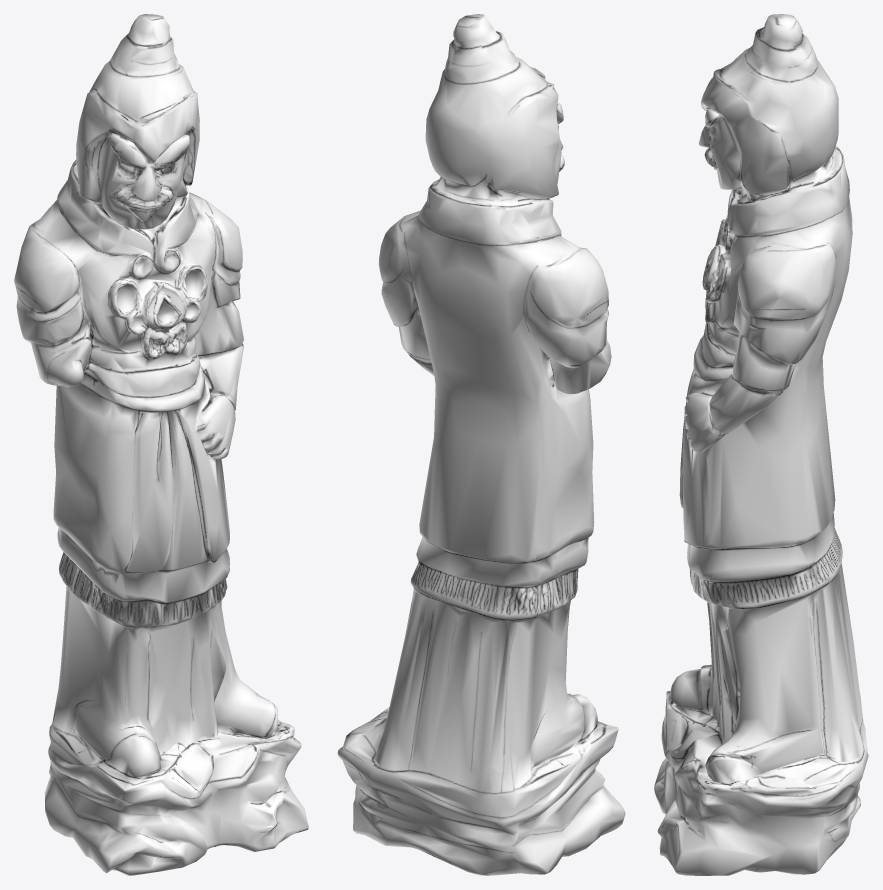
The picture shows the model from 3 angles, left to right: view 1: azimuth 30°, elevation 25°; view 2: azimuth 150°, elevation 25°; view 3: azimuth 270°, elevation 25°; orthographic projection. The views are drawn at different scales.
Parts seen in each view (by area): view 1: node_0; view 2: node_0; view 3: node_0.
Boxes of the visible parts, x1,y1,x2,y2 form: node_0: [14, 14, 308, 875]; node_0: [337, 14, 625, 875]; node_0: [654, 14, 868, 875].
Size of the model in its own units: 0.3557 by 1.14 by 0.2748.
1 material, 1 textured.
